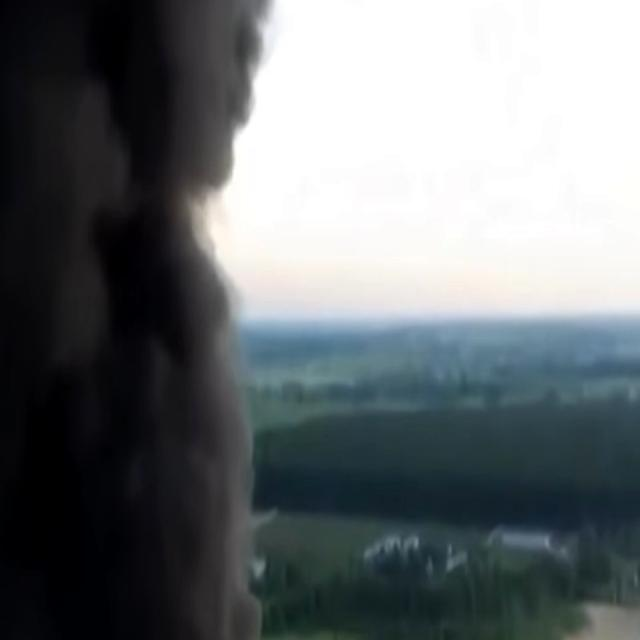smoke: (0, 195, 266, 640), (11, 0, 219, 164)
